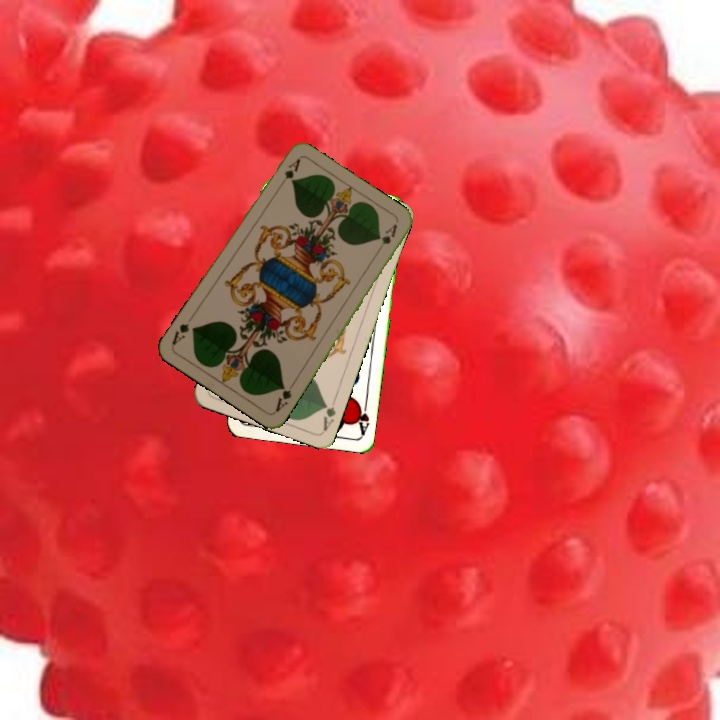GA: (274, 155, 303, 191), (271, 378, 297, 414), (319, 394, 339, 433)
HA: (352, 396, 372, 437)
